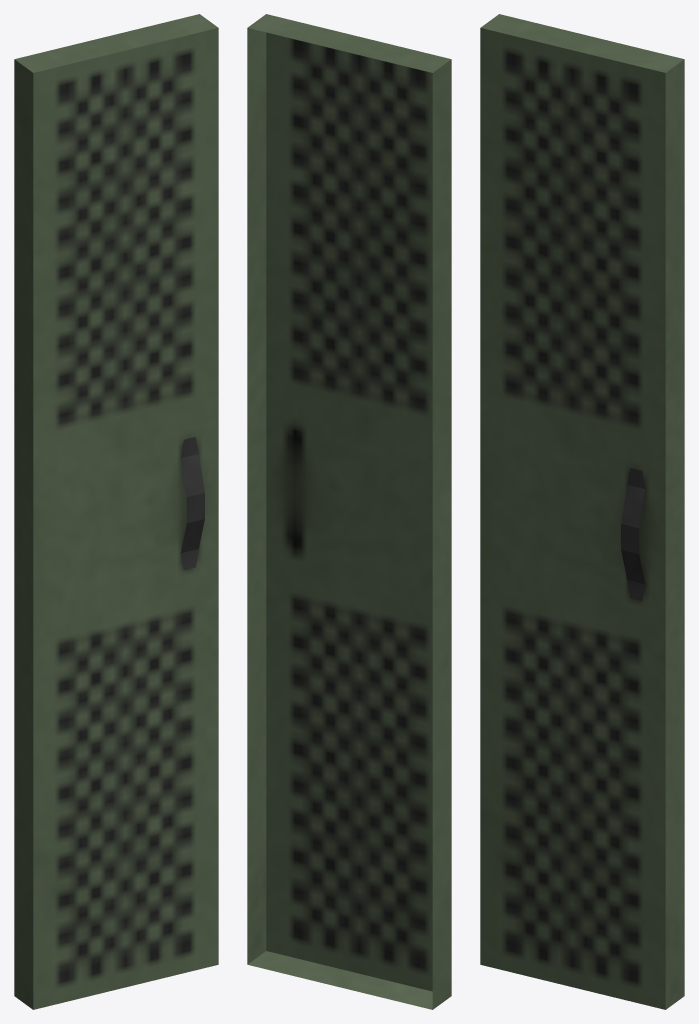
The model's file is Locker Door Left Army.fbx.
3 views of the same model, side by side, from view 1: azimuth 30°, elevation 25°; view 2: azimuth 150°, elevation 25°; view 3: azimuth 330°, elevation 25° (orthographic).
Parts seen in each view (by area): view 1: Gray MLocker Door; view 2: Gray MLocker Door; view 3: Gray MLocker Door.
Part boxes in pixels (left/top/right/bottom): Gray MLocker Door: left=14, top=14, right=218, bottom=1009; Gray MLocker Door: left=247, top=14, right=451, bottom=1009; Gray MLocker Door: left=480, top=14, right=684, bottom=1009.
Size of the model in its own units: 28.32 by 137 by 6.69.
